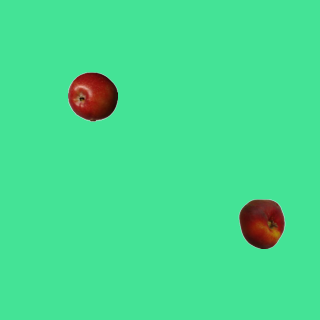Apple Braeburn: (67, 71, 117, 121)
Nectarine Flat: (236, 198, 286, 248)
